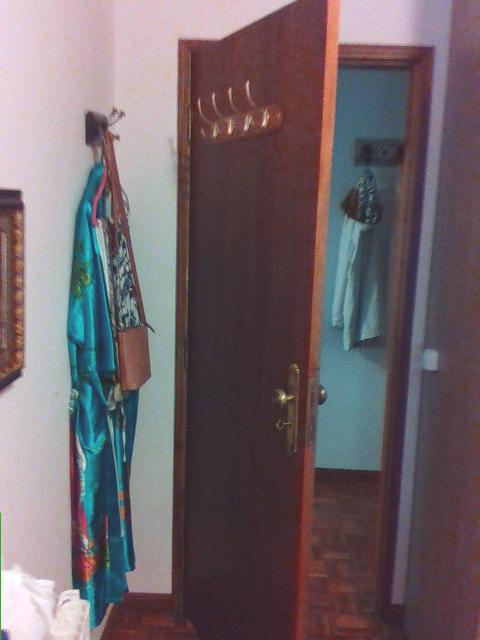semi_door: (171, 3, 437, 638)
